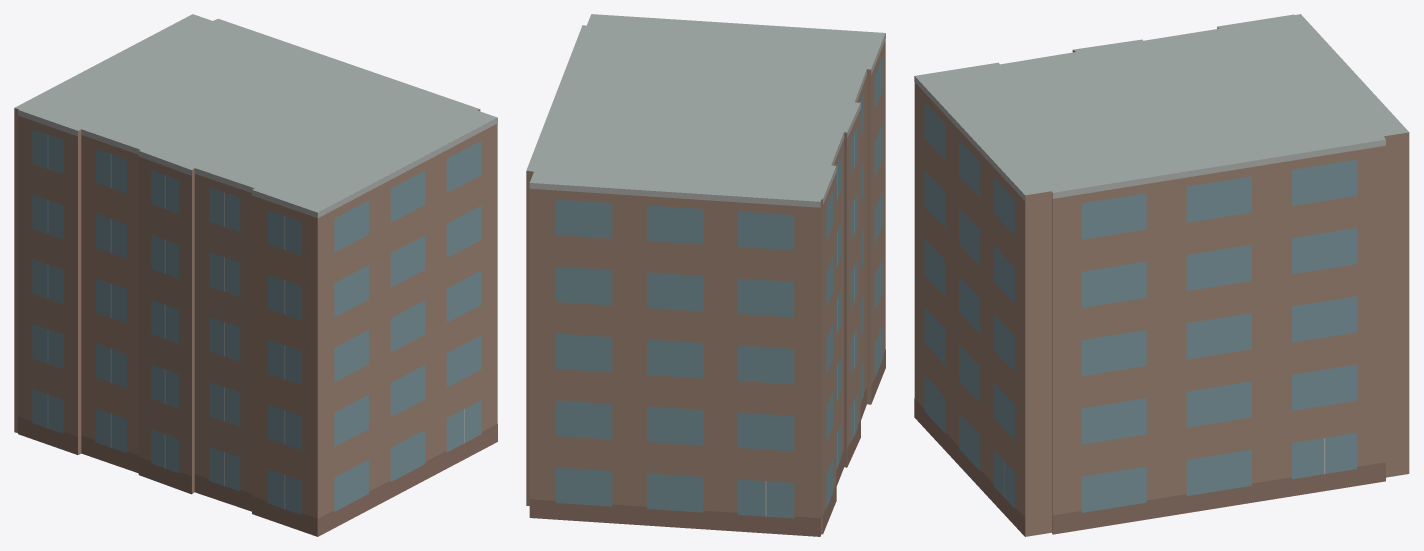
File: survey-upis-32904041.glb
3 views of the same model, side by side, from view 1: azimuth 30°, elevation 25°; view 2: azimuth 150°, elevation 25°; view 3: azimuth 270°, elevation 25° (orthographic). The views are drawn at different scales.
Parts seen in each view (by area): view 1: survey-upis-32904041.tmp; view 2: survey-upis-32904041.tmp; view 3: survey-upis-32904041.tmp.
Part boxes in pixels (x1,y1,x2,y2): survey-upis-32904041.tmp: [14, 14, 497, 536]; survey-upis-32904041.tmp: [526, 14, 885, 536]; survey-upis-32904041.tmp: [914, 14, 1409, 536].
Size of the model in its own units: 15.94 by 14 by 18.39.
